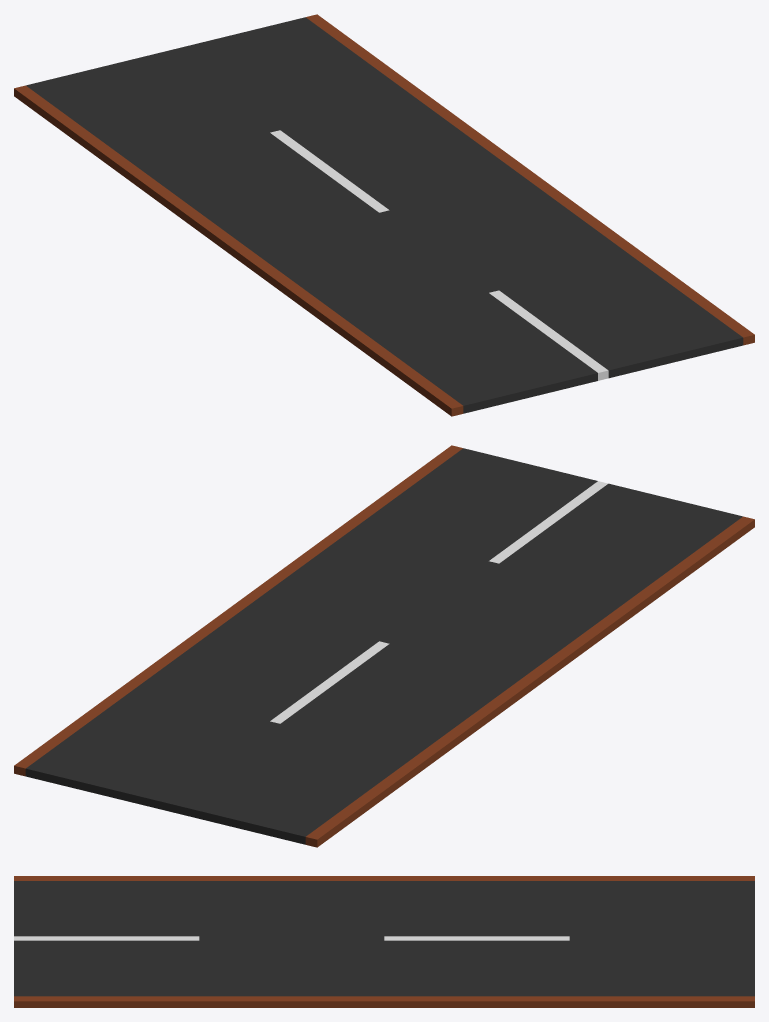
File: Road1.2.fbx
3 views of the same model, one above another, from view 1: azimuth 30°, elevation 25°; view 2: azimuth 150°, elevation 25°; view 3: azimuth 270°, elevation 25° (orthographic). The views are drawn at different scales.
Visible parts, largest first — view 1: Cube; view 2: Cube; view 3: Cube.
Boxes of the visible parts, x1,y1,x2,y2 form: Cube: (14, 14, 754, 416); Cube: (14, 445, 754, 847); Cube: (14, 876, 754, 1007).
Size of the model in its own units: 800 by 20 by 2000.
